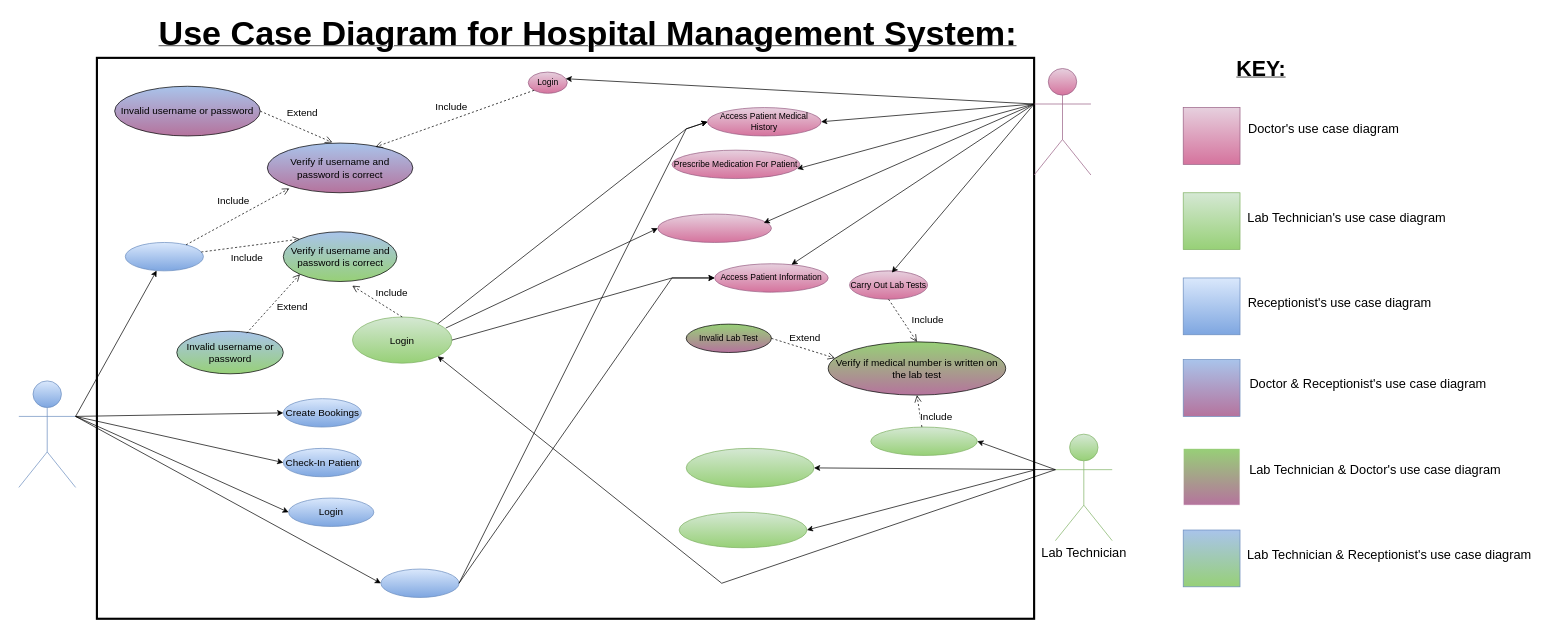
Image size: 1551x632. Some labels were removed from this diagram. The centre of each missing label's shape, as x and y in pixels:
Access Patient Medical Record: the point at 714,227
Doctor: the point at 1062,121
Receptionist: the point at 47,433
Record Lab Tests: the point at 923,440
Record Quality Of Lab Equipment: the point at 742,530
Record Quantity Of Lab Equipment: the point at 750,467
Register Patient: the point at 419,582
Register Staff: the point at 164,256
